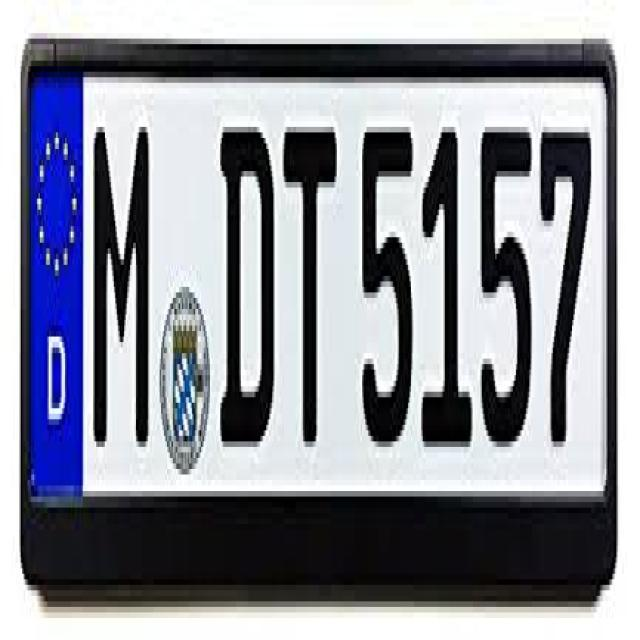Allemagne: (26, 71, 83, 499)
EU: (19, 47, 611, 595)
